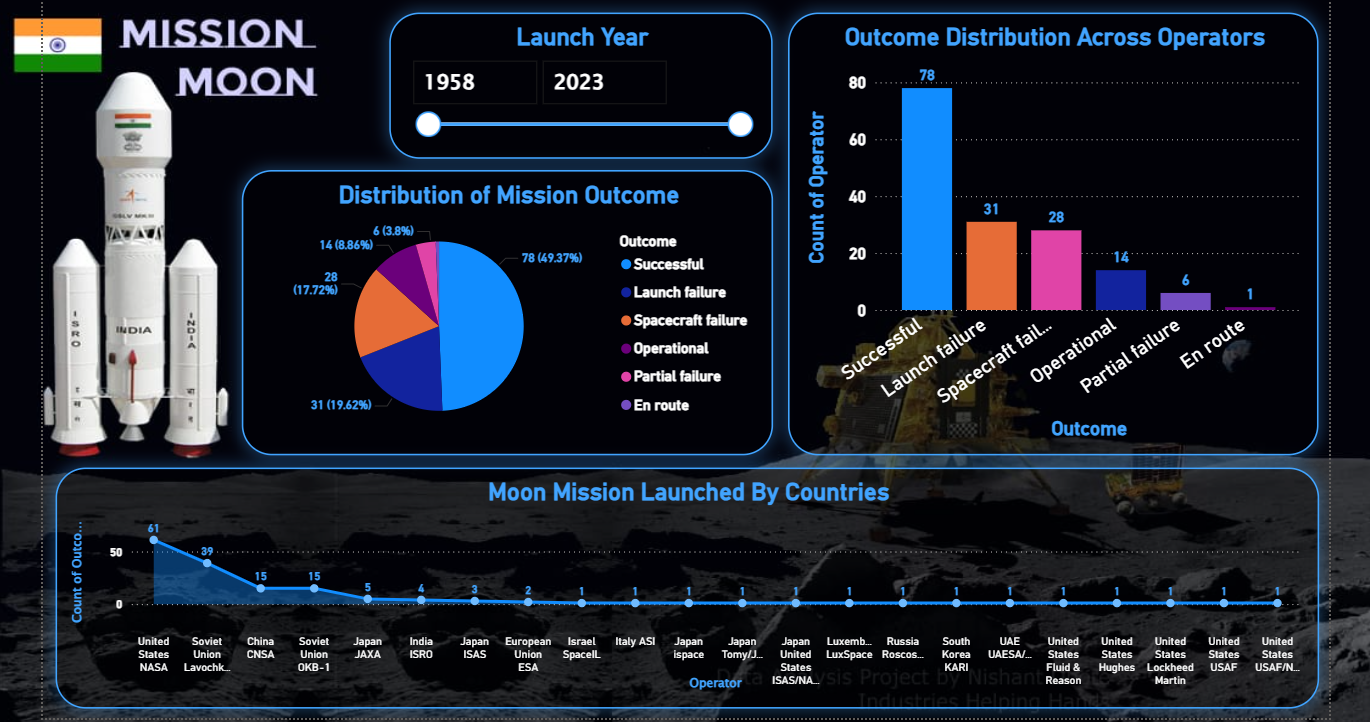

Layout of this report page (visuals, bound fields, positions):
{"tool":"powerbi","page":{"name":"Moon Mission dashboard Page 1","canvas":[1280,720],"ordinal":0},"visuals":[{"type":"slicer","title":"Launch Year","fields":{"Values":["Data set Part 1 - Moonlanding.Launch Date.Variation.Date Hierarchy.Year"]},"box":[345,17.5,381.4,145.5],"z":0},{"type":"pieChart","title":"Distribution of Mission Outcome","fields":{"Category":["Data set Part 1 - Moonlanding.Outcome"],"Y":["CountNonNull(Data set Part 1 - Moonlanding.Mission)"]},"box":[197.8,174.2,528.7,283.6],"z":1000},{"type":"columnChart","title":"Outcome Distribution Across Operators","fields":{"Category":["Data set Part 1 - Moonlanding.Outcome"],"Y":["CountNonNull(Data set Part 1 - Moonlanding.Operator)"]},"box":[741.2,17.5,528.3,440.7],"z":2000},{"type":"stackedAreaChart","title":"Moon Mission Launched By Countries","fields":{"Category":["Data set Part 1 - Moonlanding.Operator"],"Y":["CountNonNull(Data set Part 1 - Moonlanding.Outcome)"]},"box":[12.1,470.3,1257.4,239.9],"z":3000}]}

Visuals, with their boxes on the page's 1280x720 design canvas (x1, y1, x2, y2). These are canvas units, not pixel positions in the 1370x722 screenshot, which may show the page scaled, cropped or inside an application window:
"Launch Year" slicer: bbox=(345, 18, 726, 163)
"Distribution of Mission Outcome" pieChart: bbox=(198, 174, 726, 458)
"Outcome Distribution Across Operators" columnChart: bbox=(741, 18, 1270, 458)
"Moon Mission Launched By Countries" stackedAreaChart: bbox=(12, 470, 1270, 710)
